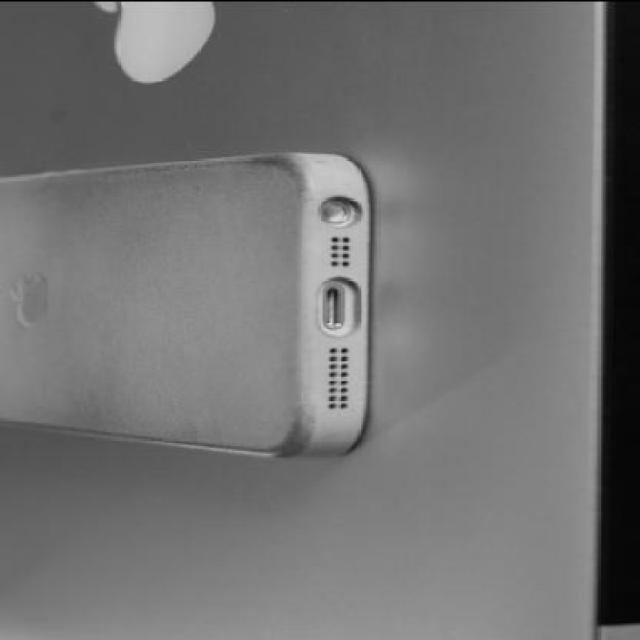fake: (14, 120, 362, 478)
